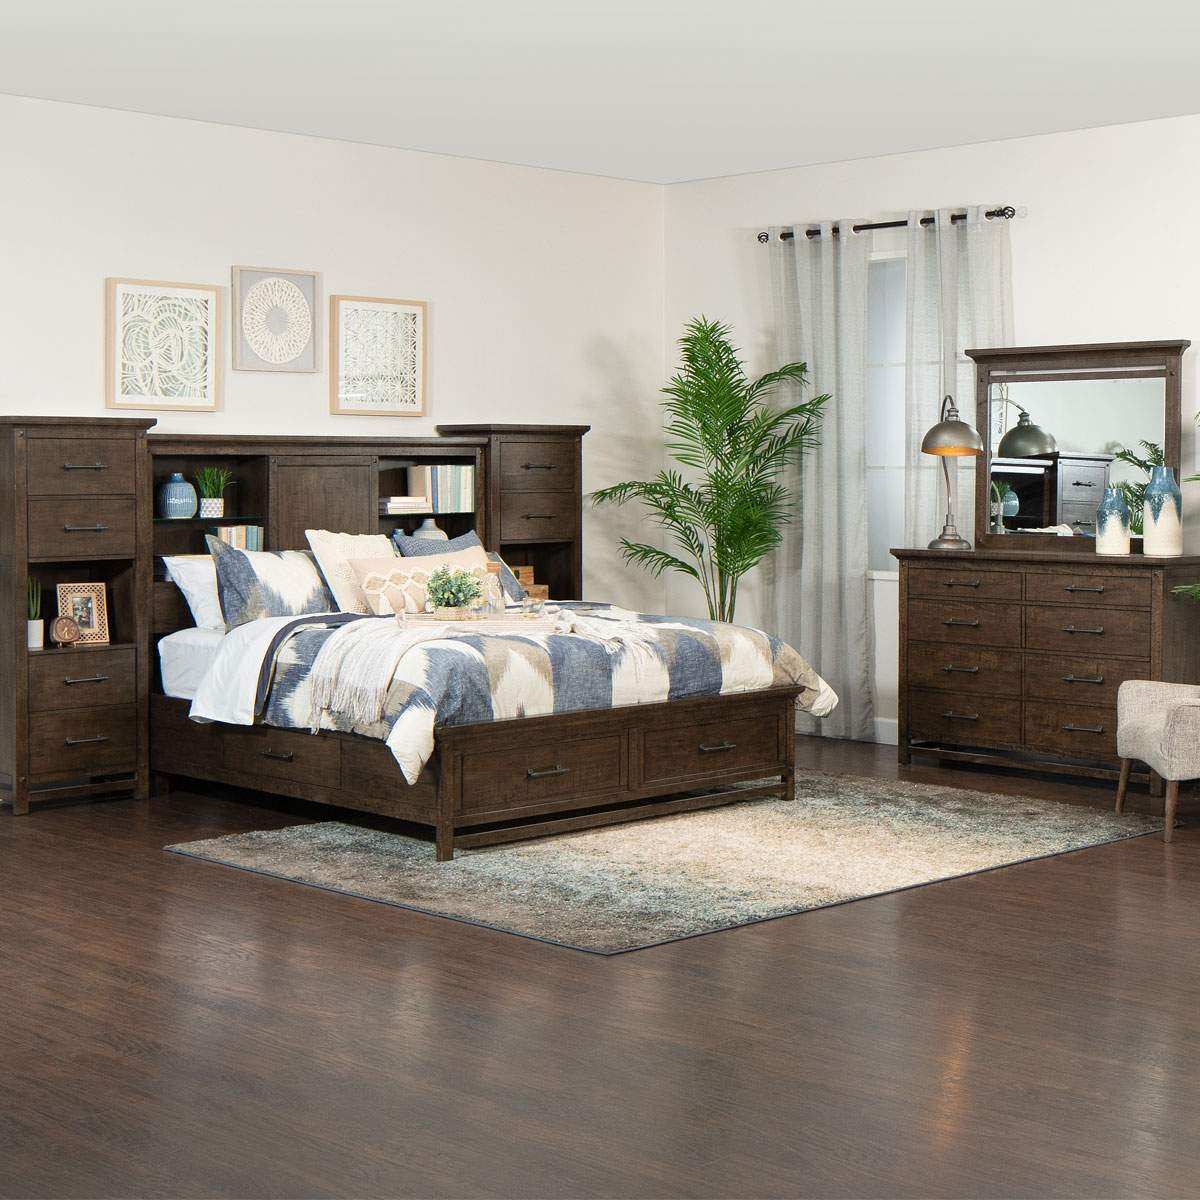bed: (149, 437, 797, 851)
dresser: (893, 548, 1200, 792)
lamp: (918, 398, 982, 548)
